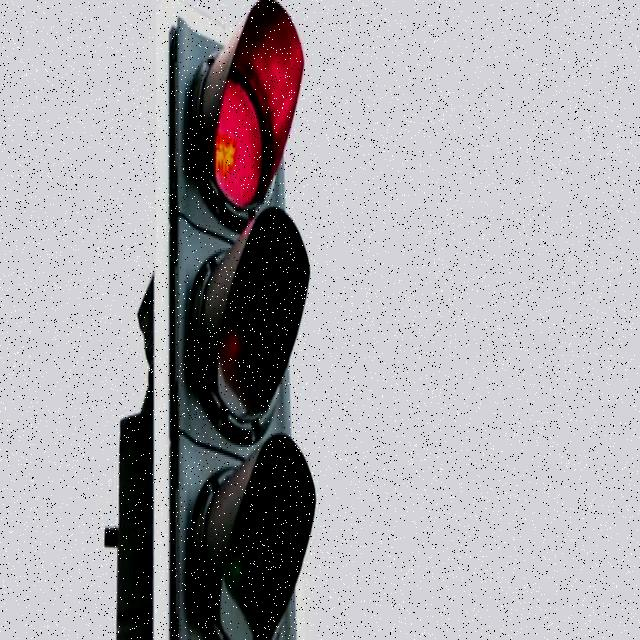Czerwone swiatlo: (177, 8, 304, 640)
